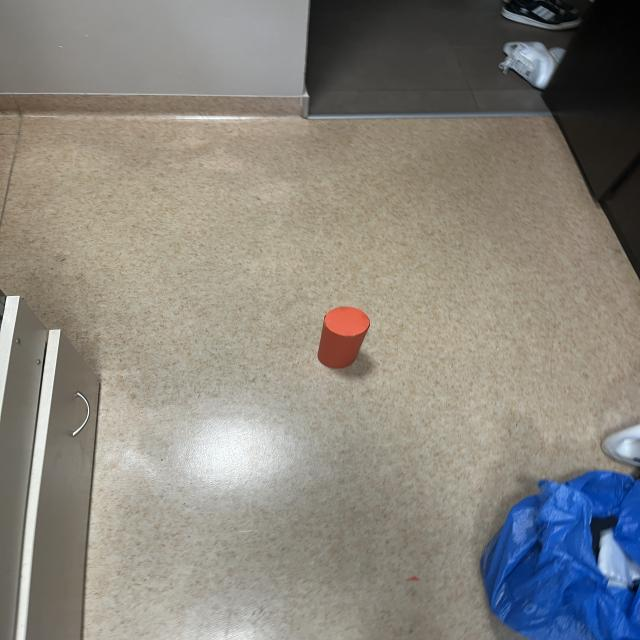przeszkoda: (317, 307, 370, 368)
